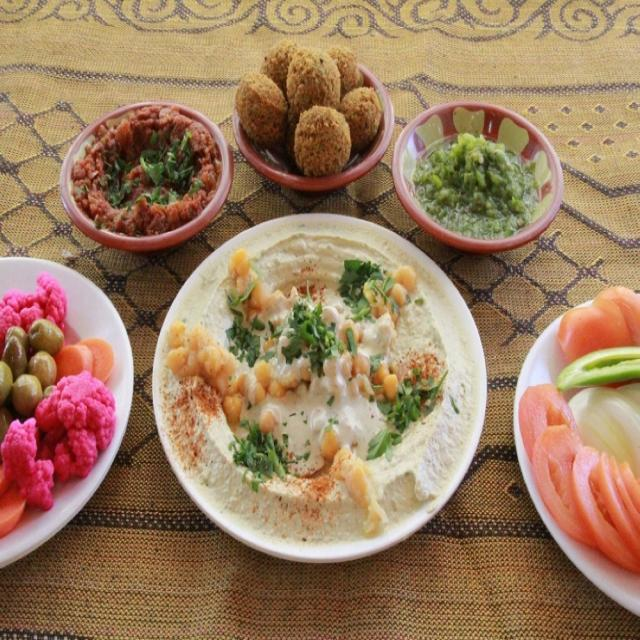Dish: (166, 207, 500, 571), (509, 285, 640, 640), (1, 242, 152, 542), (403, 85, 579, 258), (53, 94, 238, 248), (234, 45, 396, 189)
